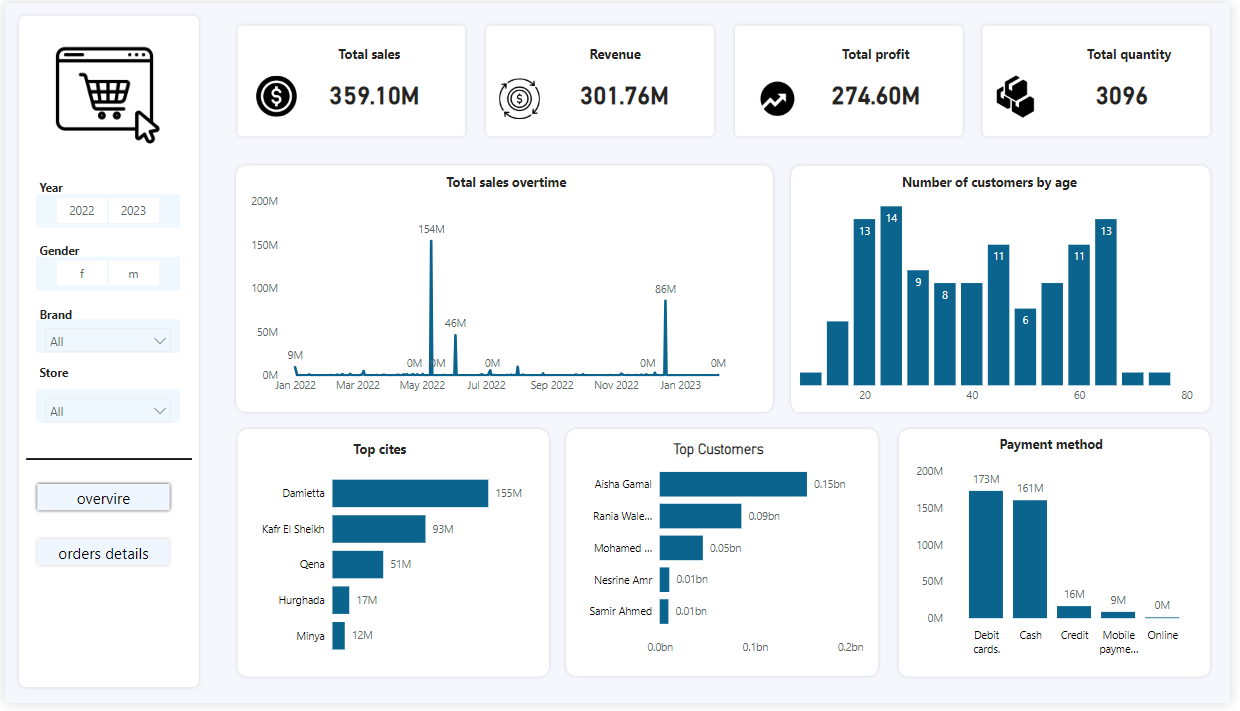

The page's visual inventory and layout, read from the dashboard file:
{"tool":"powerbi","page":{"name":"overview","canvas":[1400,800],"ordinal":0},"visuals":[{"type":"shape","box":[10.9,9.3,214.7,776.2],"z":0},{"type":"image","box":[48.5,41.9,137.6,128.5],"z":1000},{"type":"slicer","fields":{"Values":["date_dim.year"]},"box":[35.4,218.9,163.9,38],"z":2000},{"type":"slicer","fields":{"Values":["brand_dim.brand_name"]},"box":[35.4,361.8,163.9,38],"z":3000},{"type":"slicer","fields":{"Values":["store_dim.store_name"]},"box":[35.4,441.8,163.9,38],"z":4000},{"type":"slicer","fields":{"Values":["customer_dim.gender"]},"box":[35.4,289.7,163.9,38],"z":5000},{"type":"textbox","box":[33.8,196.6,72.1,32.8],"z":6000},{"type":"textbox","box":[33.8,268.7,72.1,32.8],"z":7000},{"type":"textbox","box":[33.8,340.8,72.1,32.8],"z":8000},{"type":"textbox","box":[33.8,409,72.1,32.8],"z":9000},{"type":"shape","box":[33.1,546,159.4,37.9],"z":10000},{"type":"shape","box":[33.1,609.1,159.4,37.9],"z":11000},{"type":"shape","box":[23.7,508.1,189.4,25.2],"z":12000},{"type":"shape","box":[260.9,21.3,268.7,135],"z":13000},{"type":"shape","box":[545.3,21.3,268.7,135],"z":14000},{"type":"shape","box":[829.8,21.3,268.7,135],"z":15000},{"type":"shape","box":[1112.9,21.3,268.7,135],"z":16000},{"type":"shape","box":[260.4,181.5,621.7,290.4],"z":17000},{"type":"shape","box":[260.9,482.4,364.4,291],"z":18000},{"type":"shape","box":[637.7,482.6,364.8,290.3],"z":19000},{"type":"shape","box":[1017.2,482.4,364.4,291],"z":20000},{"type":"shape","box":[894.7,181.5,487.6,290.4],"z":21000},{"type":"card","fields":{"Values":["Sum(fact_sales.total_due)"]},"box":[329.8,63.7,184.6,80.5],"z":22000},{"type":"image","box":[281.6,78.2,58.3,55.8],"z":23000},{"type":"textbox","box":[376.2,42.6,90.4,45.9],"z":24000},{"type":"image","box":[849.6,81.9,65.7,55.8],"z":24001},{"type":"image","box":[1123.7,75.7,60.8,62],"z":24002},{"type":"card","fields":{"Values":["Sum(fact_sales.sub_total)"]},"box":[615.2,63.6,184.8,80.6],"z":24003},{"type":"card","fields":{"Values":["Sum(fact_sales.Profit)"]},"box":[902.9,63.6,184.8,80.6],"z":24004},{"type":"card","fields":{"Values":["Sum(fact_sales.quantity)"]},"box":[1184.5,63.6,184.8,80.6],"z":24005},{"type":"image","box":[559.4,81.9,55.8,55.8],"z":24006},{"type":"textbox","box":[663.6,42.6,90.5,45.9],"z":24007},{"type":"textbox","box":[951.7,42.6,103.6,45.9],"z":24008},{"type":"textbox","box":[1230.9,42.6,119.3,45.9],"z":24009},{"type":"lineChart","fields":{"Category":["date_dim.full_date.Variation.Date Hierarchy.Year","date_dim.full_date.Variation.Date Hierarchy.Quarter","date_dim.full_date.Variation.Date Hierarchy.Month","date_dim.full_date.Variation.Date Hierarchy.Day"],"Y":["Sum(fact_sales.total_due)"]},"box":[275.7,212.9,568.6,242.9],"z":24010},{"type":"textbox","box":[438.6,190,268.6,45.7],"z":24011},{"type":"barChart","fields":{"Category":["customer_dim.city"],"Y":["Sum(fact_sales.total_due)"]},"box":[281.4,515.7,327.1,245.7],"z":24012},{"type":"textbox","box":[392.9,494.3,91.4,34.3],"z":24013},{"type":"columnChart","fields":{"Category":["fact_sales.payment_method"],"Y":["Sum(fact_sales.total_due)"]},"box":[1035.7,521.4,332.9,232.9],"z":24014},{"type":"textbox","box":[1131.4,488.6,137.1,45.7],"z":24015},{"type":"columnChart","fields":{"Y":["CountNonNull(customer_dim.account_id)"],"Category":["customer_dim.age (bins)"]},"box":[902.9,218.6,465.7,248.6],"z":24016},{"type":"textbox","box":[1020,190,235.7,40],"z":24017},{"type":"barChart","fields":{"Y":["Sum(fact_sales.total_due)"],"Category":["customer_dim.name"]},"box":[651.4,508.6,335.7,245.7],"z":24018},{"type":"textbox","box":[758.6,494.3,135.7,34.3],"z":24019}]}

Visuals, with their boxes in screenshot pixels (x1, y1, x2, y2), scaled from the page's 1400x800 canvas onto the 1240x711 screenshot:
shape: [10, 8, 200, 698]
image: [43, 37, 165, 151]
slicer - date_dim.year: [31, 195, 177, 228]
slicer - brand_dim.brand_name: [31, 322, 177, 355]
slicer - store_dim.store_name: [31, 393, 177, 426]
slicer - customer_dim.gender: [31, 257, 177, 291]
textbox: [30, 175, 94, 204]
textbox: [30, 239, 94, 268]
textbox: [30, 303, 94, 332]
textbox: [30, 363, 94, 393]
shape: [29, 485, 170, 519]
shape: [29, 541, 170, 575]
shape: [21, 452, 189, 474]
shape: [231, 19, 469, 139]
shape: [483, 19, 721, 139]
shape: [735, 19, 973, 139]
shape: [986, 19, 1224, 139]
shape: [231, 161, 781, 419]
shape: [231, 429, 554, 687]
shape: [565, 429, 888, 687]
shape: [901, 429, 1224, 687]
shape: [792, 161, 1224, 419]
card - Sum(fact_sales.total_due): [292, 57, 456, 128]
image: [249, 70, 301, 119]
textbox: [333, 38, 413, 79]
image: [753, 73, 811, 122]
image: [995, 67, 1049, 122]
card - Sum(fact_sales.sub_total): [545, 57, 709, 128]
card - Sum(fact_sales.Profit): [800, 57, 963, 128]
card - Sum(fact_sales.quantity): [1049, 57, 1213, 128]
image: [495, 73, 545, 122]
textbox: [588, 38, 668, 79]
textbox: [843, 38, 935, 79]
textbox: [1090, 38, 1196, 79]
lineChart - date_dim.full_date.Variation.Date Hierarchy.Year x date_dim.full_date.Variation.Date Hierarchy.Quarter: [244, 189, 748, 405]
textbox: [388, 169, 626, 209]
barChart - customer_dim.city x Sum(fact_sales.total_due): [249, 458, 539, 677]
textbox: [348, 439, 429, 470]
columnChart - fact_sales.payment_method x Sum(fact_sales.total_due): [917, 463, 1212, 670]
textbox: [1002, 434, 1124, 475]
columnChart - CountNonNull(customer_dim.account_id) x customer_dim.age (bins): [800, 194, 1212, 415]
textbox: [903, 169, 1112, 204]
barChart - Sum(fact_sales.total_due) x customer_dim.name: [577, 452, 874, 670]
textbox: [672, 439, 792, 470]
